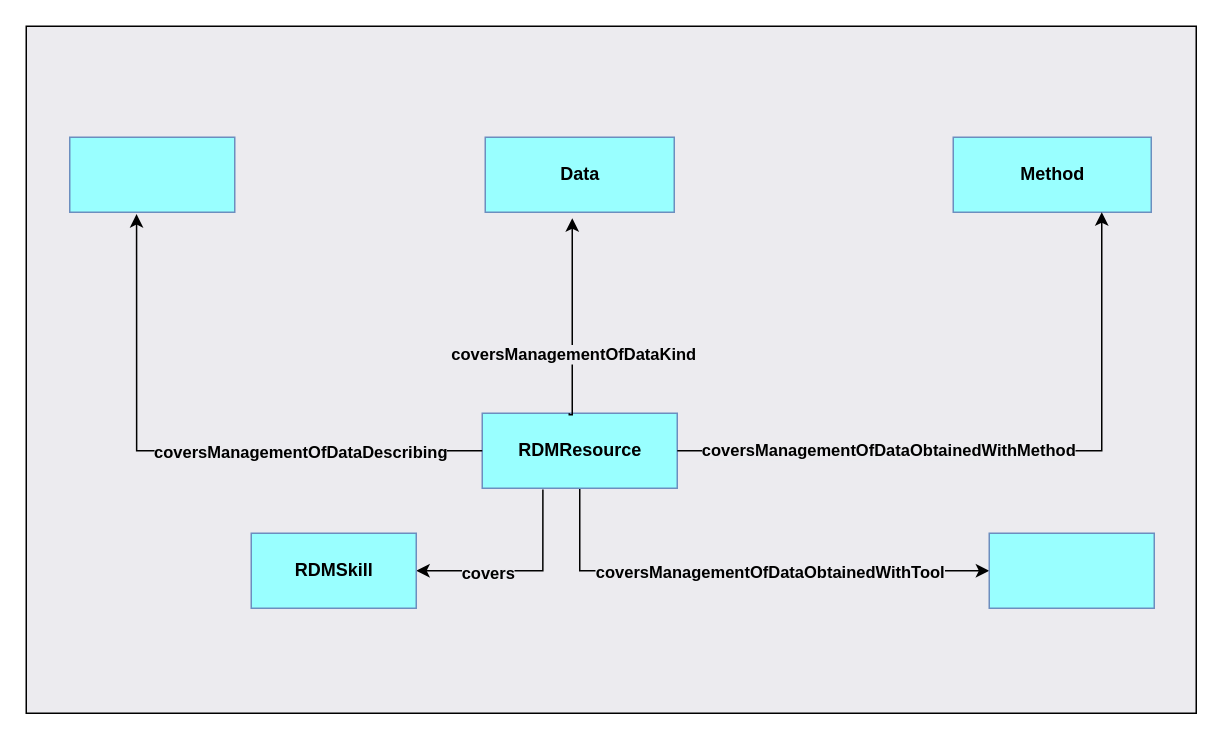
Some shapes in this 1223 by 740 pixel diagram are drawn without their labels. The shapes that lost their labels are listed below. From the top down, each one's centre as x and y in pixels, then its label:
At (151,174): "Object".
At (1071,570): "Tool".
